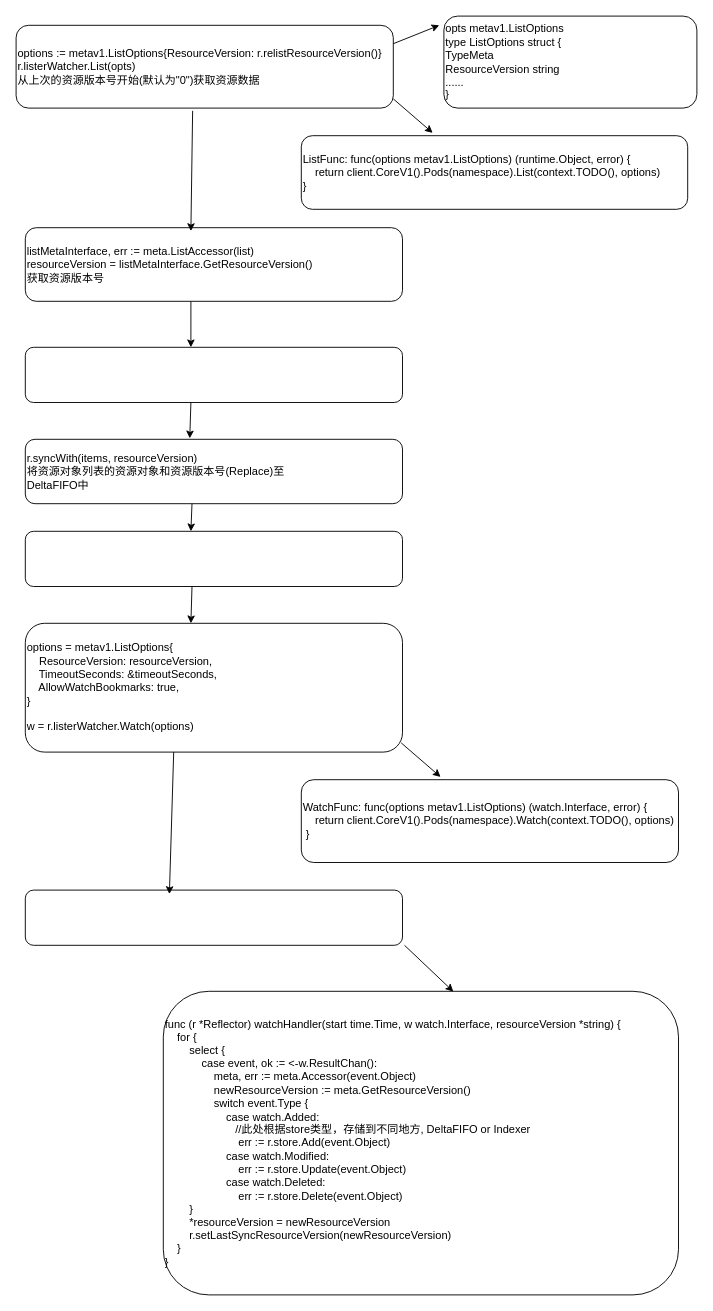
Some shapes in this 713 by 1311 pixel diagram are drawn without their labels. The shapes that lost their labels are listed below. From the top down, each one's centre as x and y in pixels, then its label:
At pixel 213 374: "items, err := meta.ExtractList(list) 将资源数据转换成资源对象列表".
At pixel 213 558: "r.setLastSyncResourceVersion(resourceVersion) 设置最新的资源版本号".
At pixel 213 917: "r.watchHandler(start, w, &resourceVersion, resyncerrc, stopCh)".
